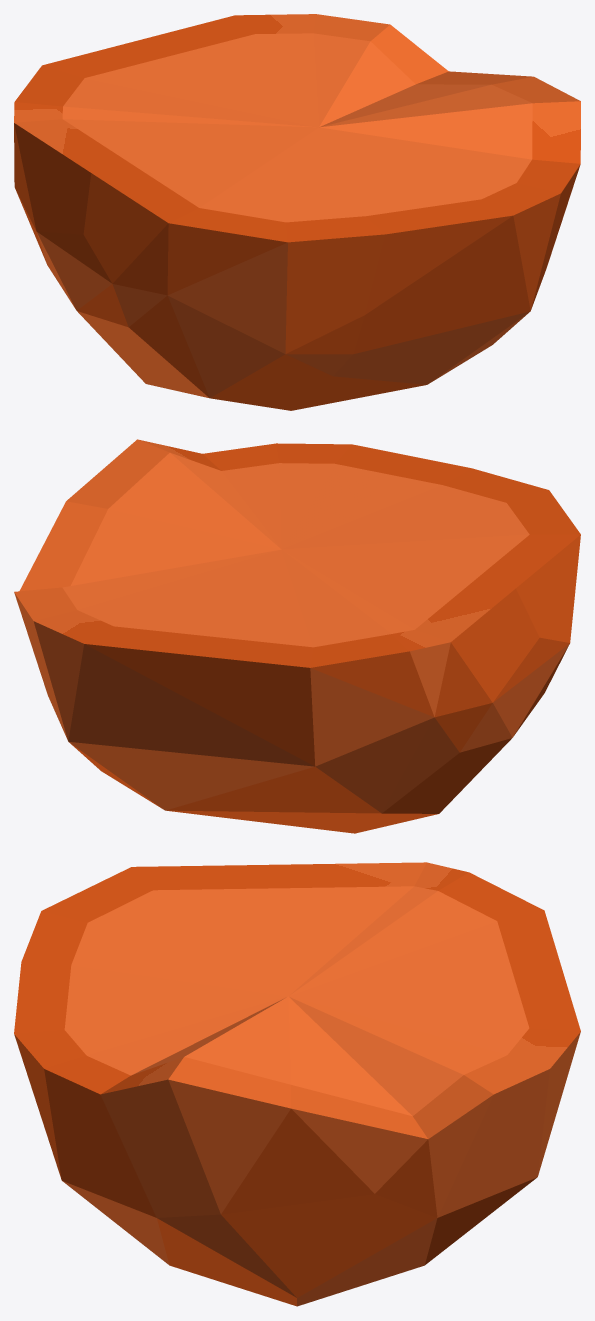
The model's file is mesh_orange_half.fbx.
3 renders of one model, top to bottom at view 1: azimuth 30°, elevation 25°; view 2: azimuth 150°, elevation 25°; view 3: azimuth 270°, elevation 25°, orthographic. The views are drawn at different scales.
Visible parts, largest first — view 1: mesh_orange_half; view 2: mesh_orange_half; view 3: mesh_orange_half.
Part boxes in pixels (x1,y1,x2,y2): mesh_orange_half: (14,14,580,410); mesh_orange_half: (14,439,580,833); mesh_orange_half: (14,862,580,1306).
Size of the model in its own units: 0.2147 by 0.1218 by 0.2194.
